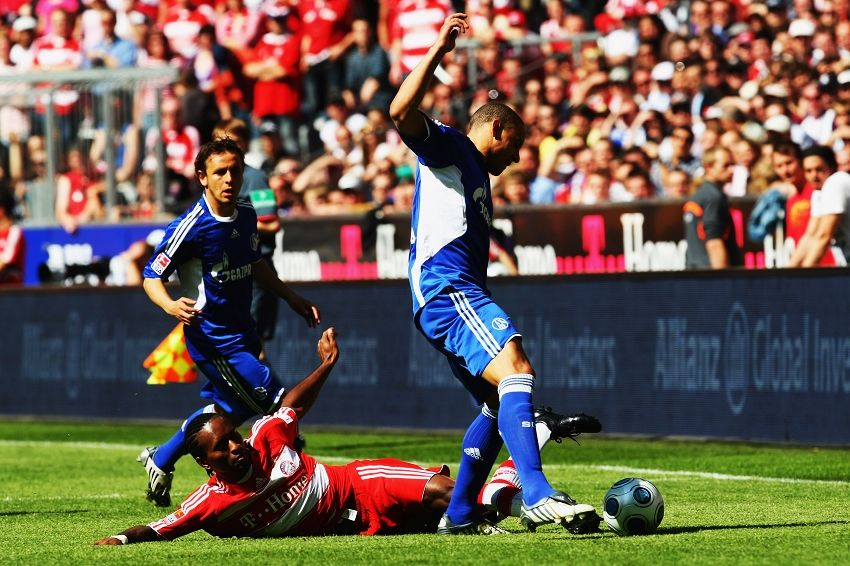10+: (7, 1, 849, 529)
down: (94, 322, 612, 552)
